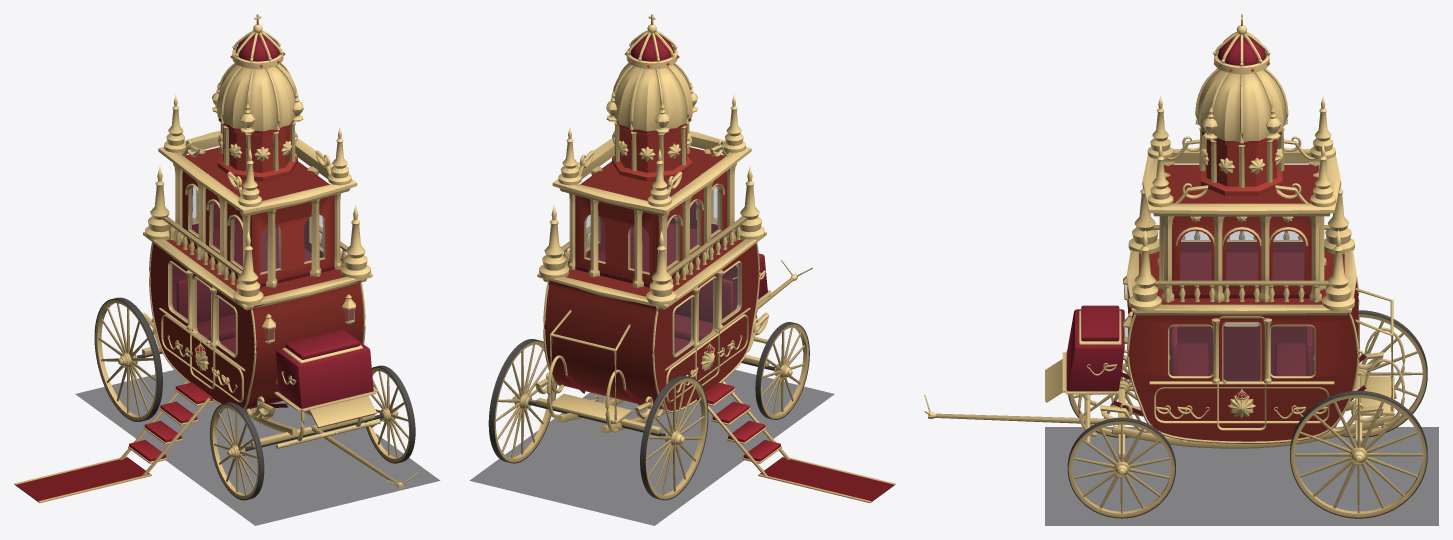
Rendered from visitor_royal_palace.glb.
3 renders of one model, left to right at view 1: azimuth 30°, elevation 25°; view 2: azimuth 150°, elevation 25°; view 3: azimuth 270°, elevation 25°, orthographic. The views are drawn at different scales.
Visible parts, largest first — view 1: visitor_royal_palace; view 2: visitor_royal_palace; view 3: visitor_royal_palace.
Part boxes in pixels (x1,y1,x2,y2): visitor_royal_palace: [14, 14, 439, 525]; visitor_royal_palace: [470, 14, 895, 525]; visitor_royal_palace: [924, 14, 1438, 525].
Size of the model in its own units: 6.63 by 8.31 by 8.36.
